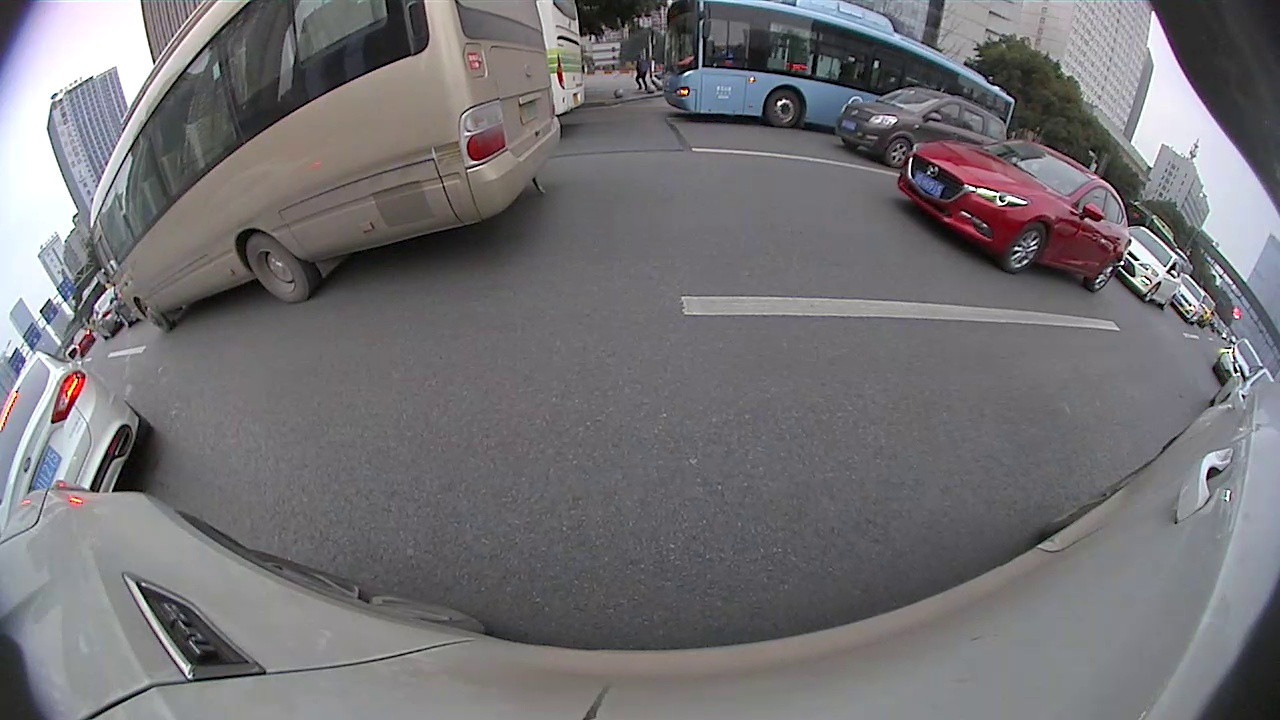bus: (92, 1, 559, 330), (658, 1, 1012, 122)
car: (900, 140, 1129, 290), (1, 353, 153, 518), (841, 89, 1008, 166), (1117, 225, 1183, 308)
front: (1009, 223, 1050, 271), (764, 87, 801, 123), (136, 296, 171, 334), (889, 138, 910, 166), (1145, 280, 1162, 302)
rear: (245, 229, 313, 302), (1094, 262, 1118, 291)
